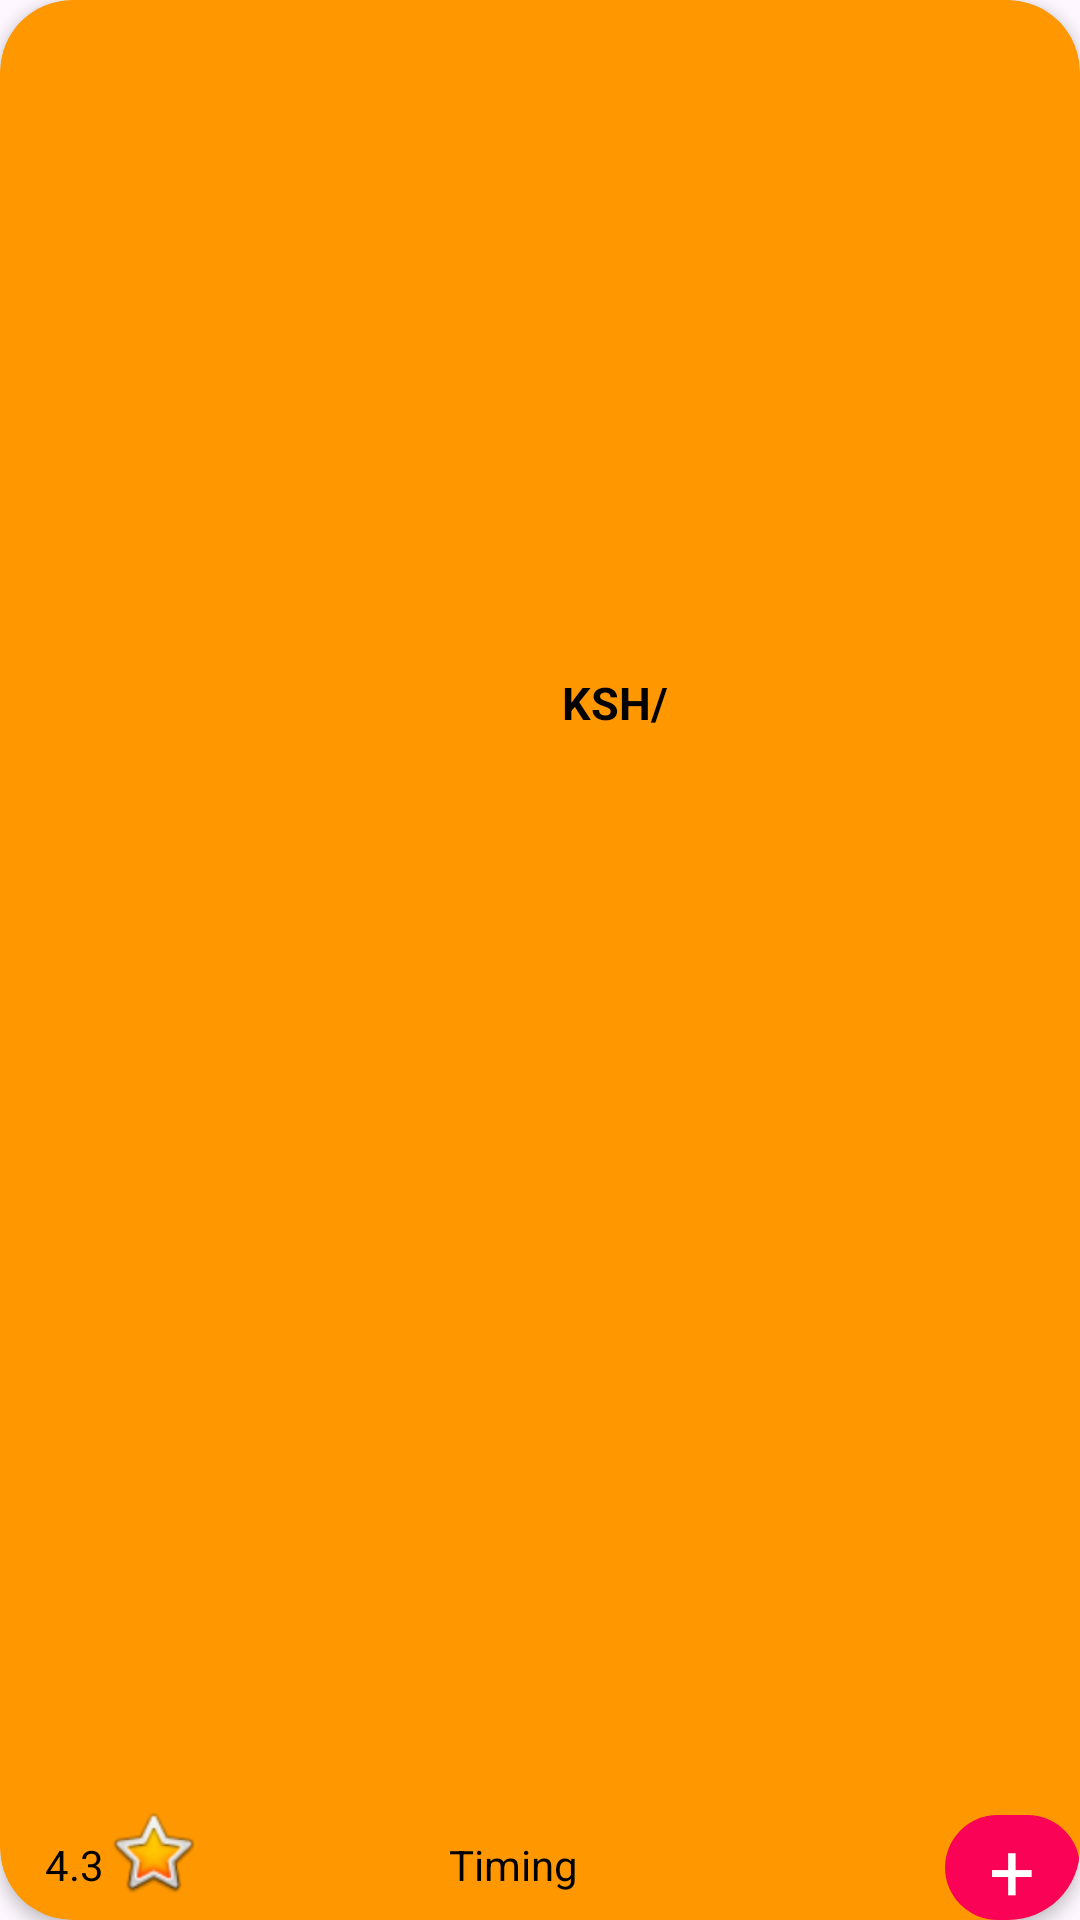

Icon click points for this 1080px x 1920px phone screenshot, format point (x, y):
star on: point (154, 1853)
